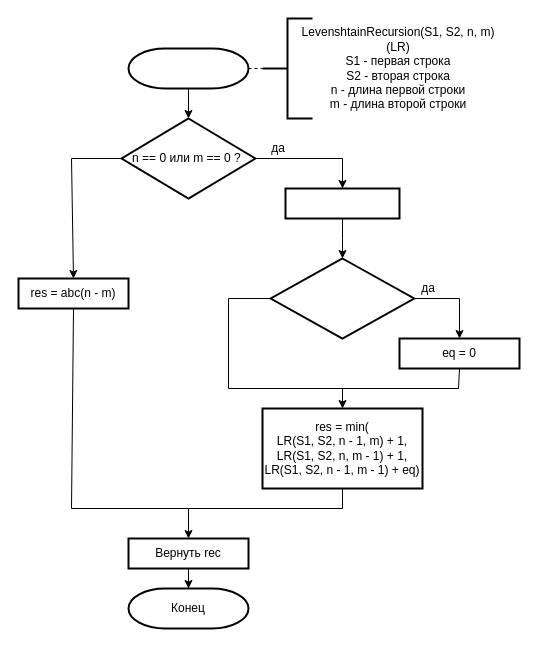
This 537x646 diagram has some shape labels left out. Each missing label, with the centre of its shape:
eq = 1: the point at 342,203
S1[n - 1] == S2[m - 1]?: the point at 342,298
Начало: the point at 188,68
